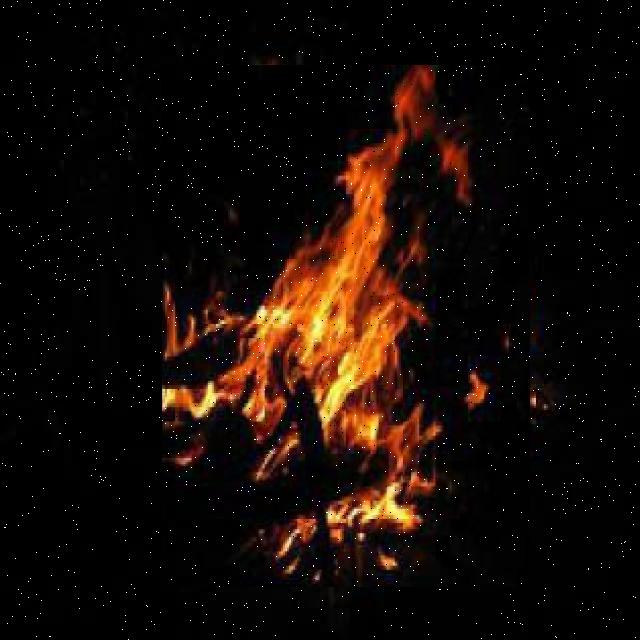fire: (162, 65, 530, 587)
